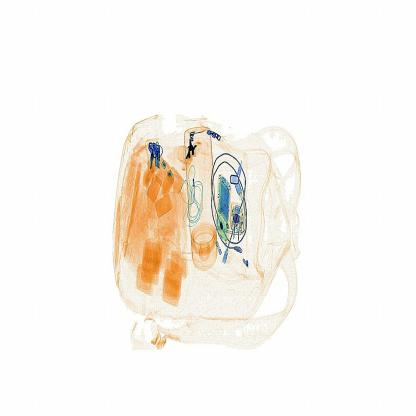gun: (180, 128, 209, 172)
